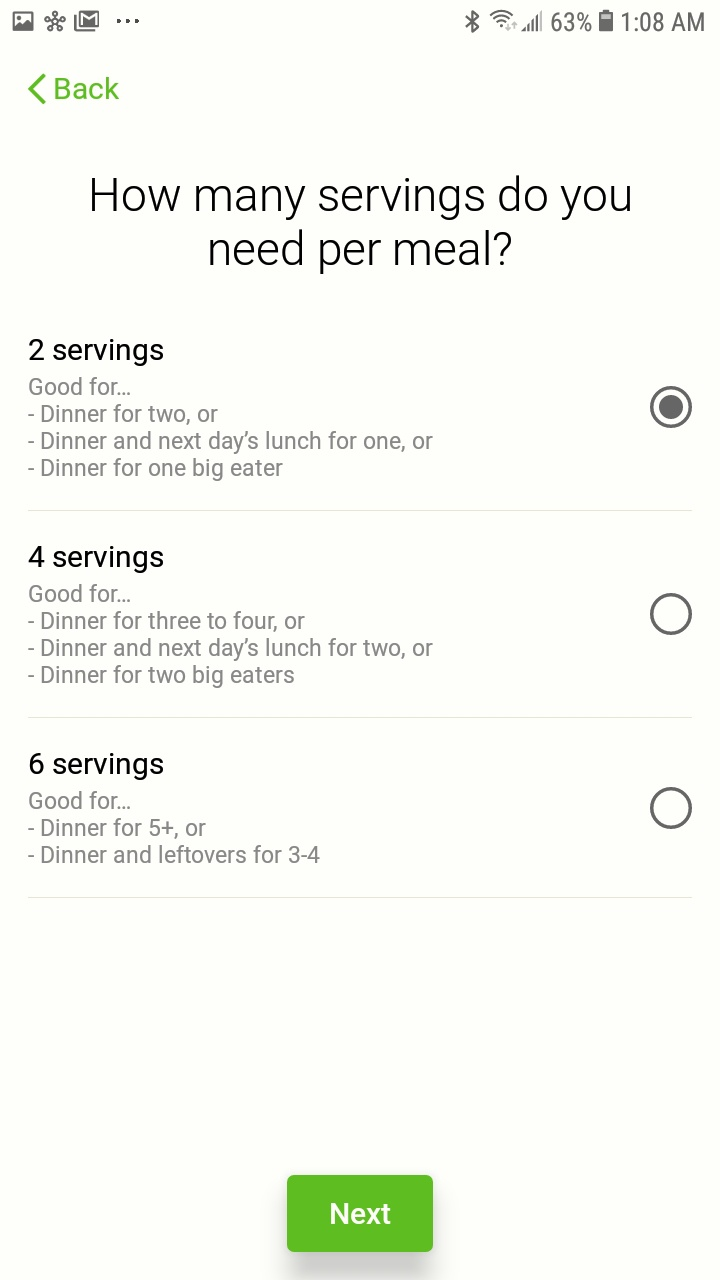CheckedTextView: (649, 386, 693, 429), (650, 787, 693, 830), (650, 593, 693, 636)
Icon: (28, 73, 47, 105)
Text: (92, 175, 631, 275), (28, 377, 434, 482), (28, 584, 434, 689), (28, 791, 321, 864), (29, 338, 164, 367), (30, 752, 164, 781), (29, 546, 165, 574), (55, 78, 120, 101)
TextButton: (287, 1175, 434, 1253)
UpperTaskBar: (1, 1, 720, 35)
